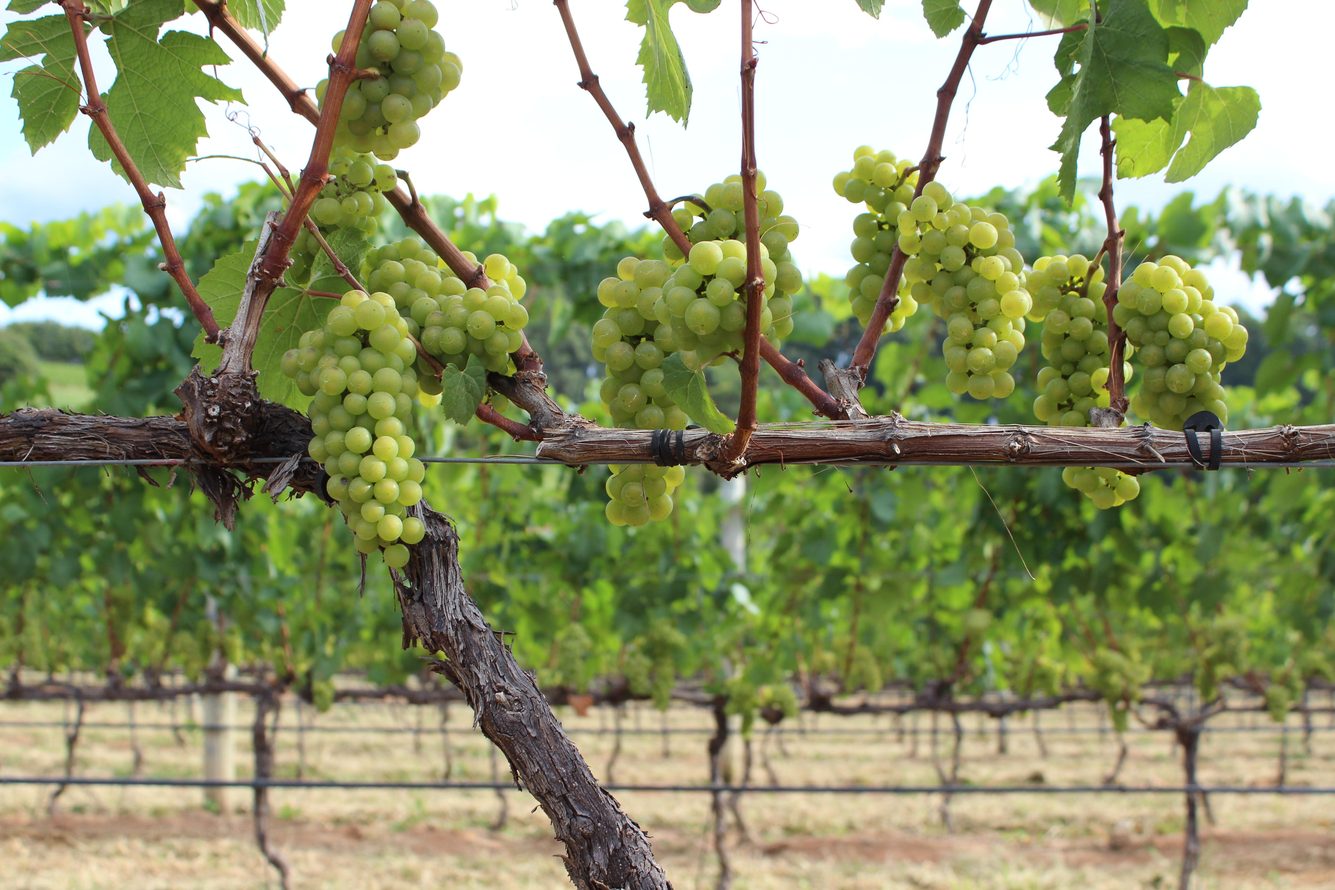leaf: (101, 0, 243, 187), (1051, 0, 1180, 201), (1114, 82, 1260, 182), (0, 15, 81, 153), (252, 288, 336, 409), (1165, 82, 1260, 182), (627, 0, 692, 125), (11, 62, 81, 153), (661, 353, 735, 434), (197, 240, 256, 327), (1150, 0, 1248, 46), (1112, 117, 1180, 178), (0, 15, 75, 61), (441, 354, 486, 425), (1046, 32, 1083, 117), (322, 227, 371, 280), (1166, 27, 1207, 77), (227, 0, 285, 35), (309, 250, 351, 293), (922, 0, 966, 38), (1029, 0, 1090, 27), (1054, 31, 1084, 77), (1046, 74, 1076, 117), (192, 332, 221, 369), (89, 127, 112, 160), (86, 0, 131, 15), (6, 0, 52, 14), (680, 0, 721, 14), (857, 0, 884, 19), (114, 164, 123, 175), (455, 356, 462, 362), (1100, 3, 1105, 10), (1080, 19, 1084, 22), (1179, 100, 1180, 101)
